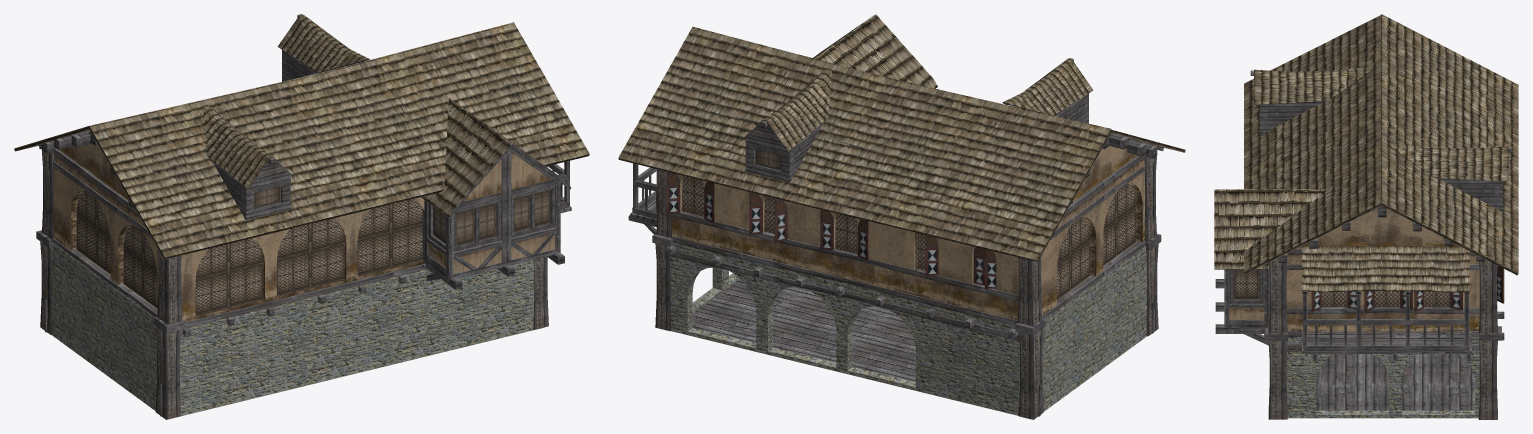
Rendered from tavern3.dae.
3 renders of one model, left to right at view 1: azimuth 30°, elevation 25°; view 2: azimuth 150°, elevation 25°; view 3: azimuth 270°, elevation 25°, orthographic. The views are drawn at different scales.
Visible parts, largest first — view 1: house; view 2: house; view 3: house.
Part boxes in pixels (x1=…): house: x1=14, y1=14, x2=589, y2=419; house: x1=618, y1=14, x2=1185, y2=419; house: x1=1214, y1=14, x2=1518, y2=419.
Size of the model in its own units: 26.7 by 14.65 by 17.58.
